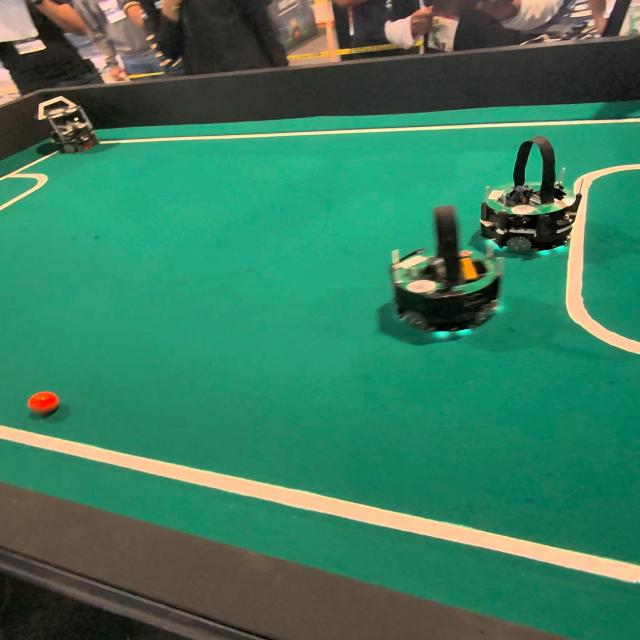Robot: (384, 200, 508, 352), (483, 128, 582, 267), (32, 91, 102, 159)
pelota: (27, 391, 59, 417)
